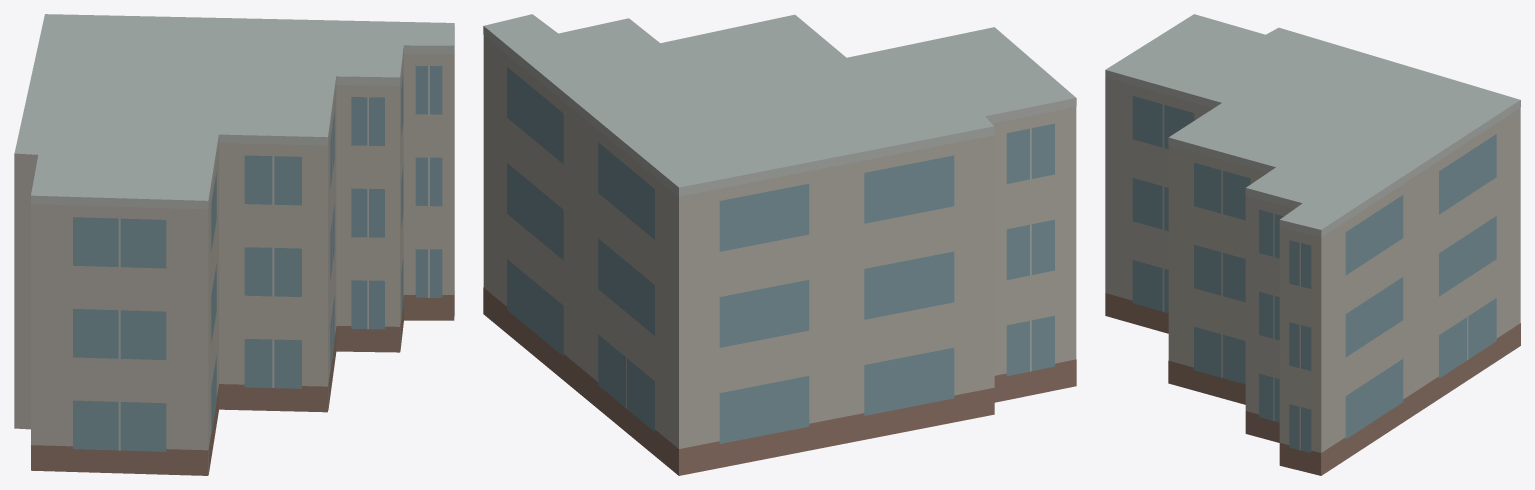
The model's file is survey-upis-32815393.glb.
3 views of the same model, side by side, from view 1: azimuth 30°, elevation 25°; view 2: azimuth 150°, elevation 25°; view 3: azimuth 270°, elevation 25° (orthographic). The views are drawn at different scales.
Parts seen in each view (by area): view 1: survey-upis-32815393.tmp; view 2: survey-upis-32815393.tmp; view 3: survey-upis-32815393.tmp.
Part boxes in pixels (box(x1,y1,x2,y2)): survey-upis-32815393.tmp: box(14, 14, 454, 475); survey-upis-32815393.tmp: box(483, 14, 1076, 475); survey-upis-32815393.tmp: box(1105, 14, 1520, 475).
Size of the model in its own units: 14.88 by 7.9 by 12.1.
